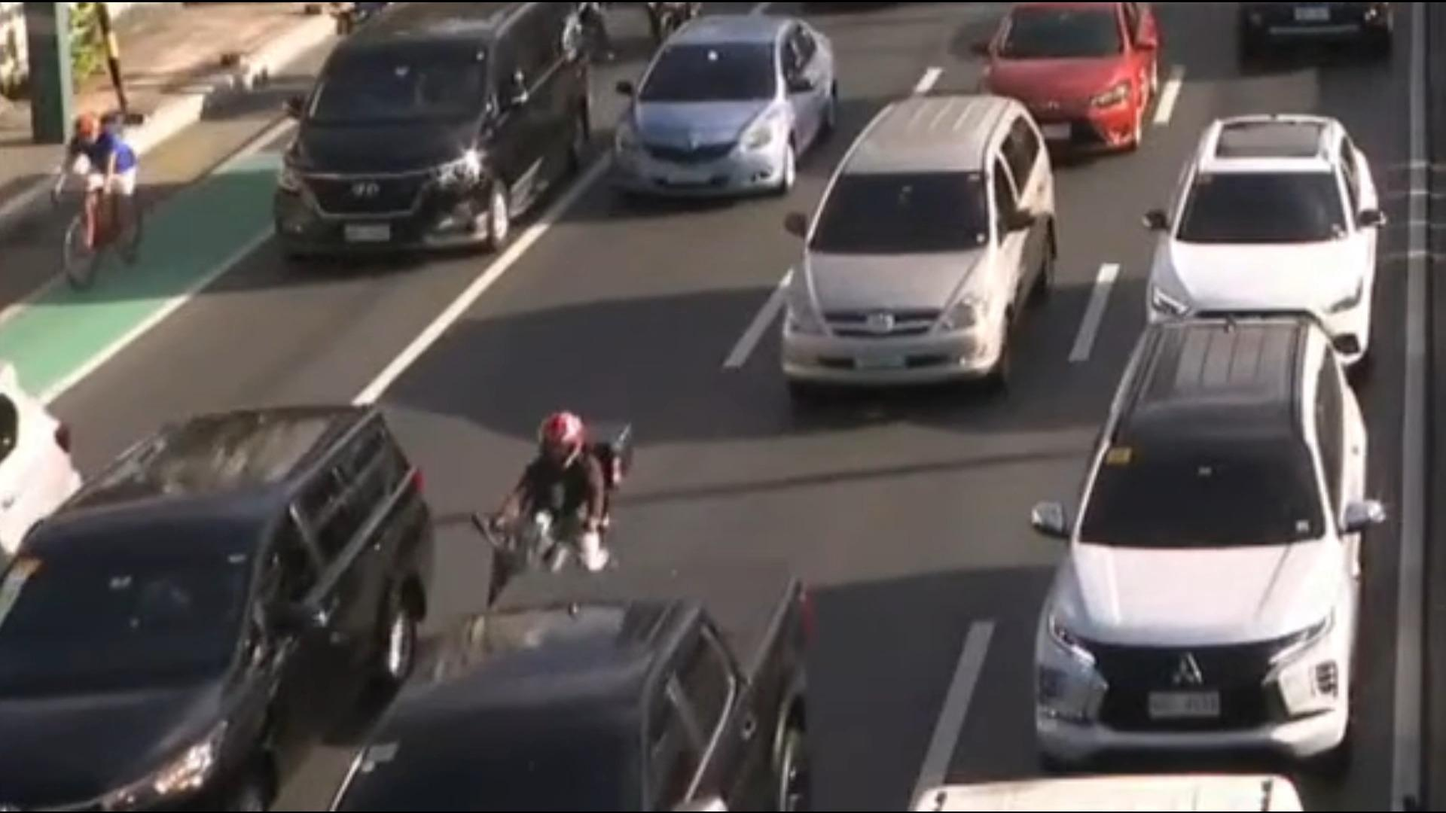Bicycle: (3, 89, 192, 321)
Motorcycle: (433, 381, 669, 646)
Pickup: (257, 514, 865, 813)
SUV: (0, 373, 422, 813), (1042, 328, 1367, 774), (760, 85, 1092, 416), (1125, 108, 1382, 362)
Sedan: (597, 12, 863, 221), (971, 0, 1192, 166)
Van: (216, 2, 605, 283)
